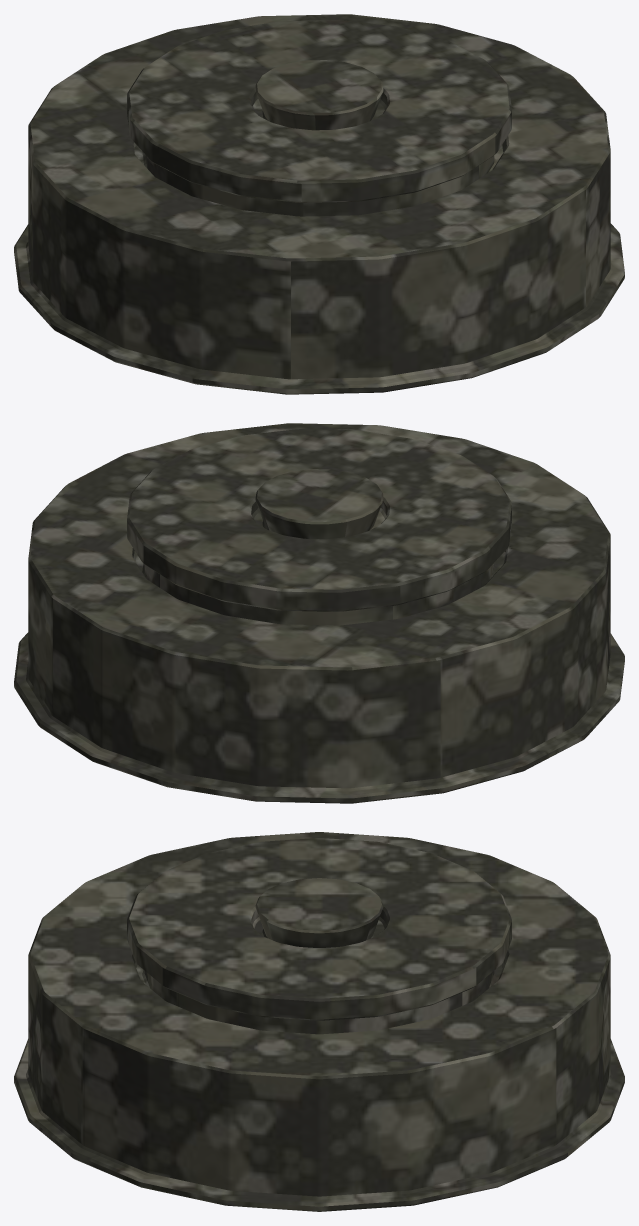
The model's file is Landmine.fbx.
3 renders of one model, top to bottom at view 1: azimuth 30°, elevation 25°; view 2: azimuth 150°, elevation 25°; view 3: azimuth 270°, elevation 25°, orthographic.
Parts seen in each view (by area): view 1: pCylinder1; view 2: pCylinder1; view 3: pCylinder1.
Part boxes in pixels (left/top/right/bottom): pCylinder1: left=14, top=14, right=624, bottom=394; pCylinder1: left=14, top=423, right=624, bottom=803; pCylinder1: left=14, top=832, right=624, bottom=1211.
Bounding box in the file's own units: 2.1 × 0.6782 × 2.1.
